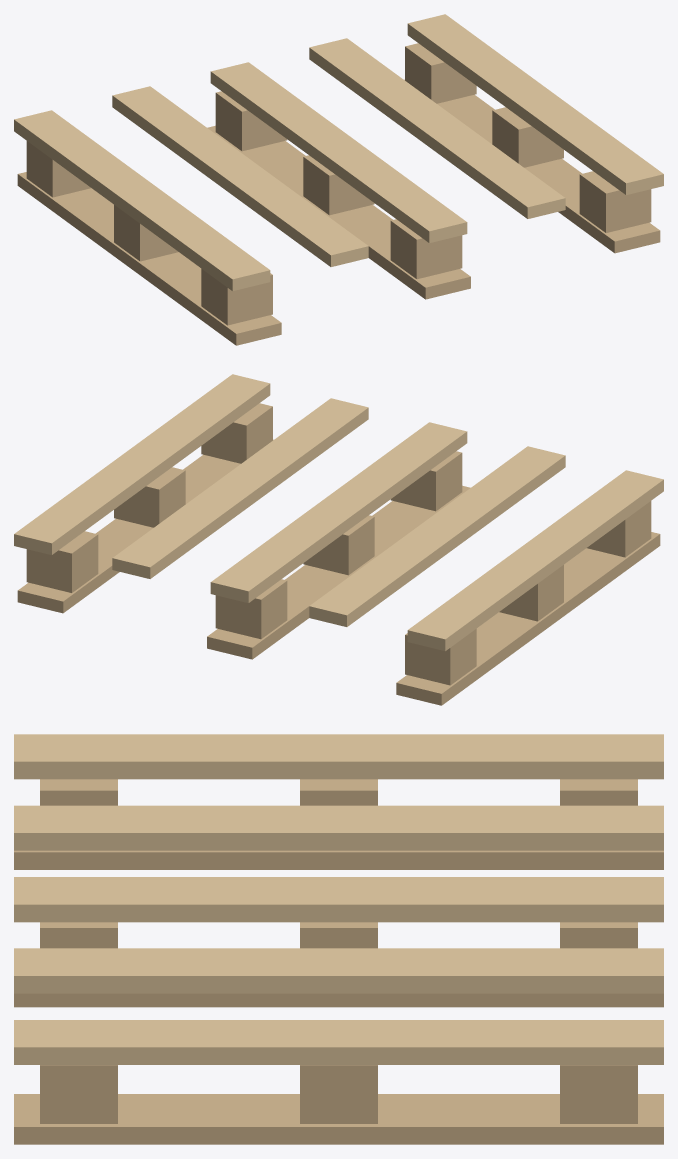
The model's file is pallet.glb.
The picture shows the model from 3 angles, top to bottom: view 1: azimuth 30°, elevation 25°; view 2: azimuth 150°, elevation 25°; view 3: azimuth 270°, elevation 25°; orthographic projection. The views are drawn at different scales.
Parts seen in each view (by area): view 1: pallet.glb; view 2: pallet.glb; view 3: pallet.glb.
Boxes of the visible parts, <box> form: pallet.glb: <box>14,14,663,345</box>; pallet.glb: <box>14,374,663,705</box>; pallet.glb: <box>14,734,663,1144</box>.
Size of the model in its own units: 1.14 by 0.17 by 1.
